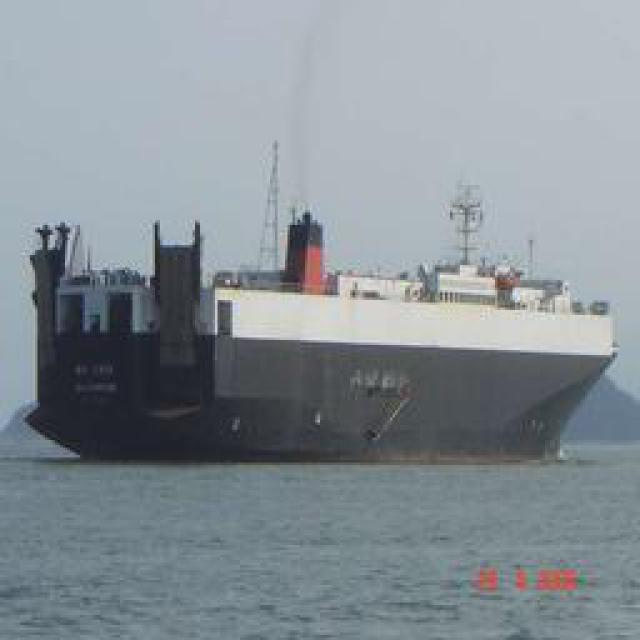Ship: (30, 240, 618, 465)
